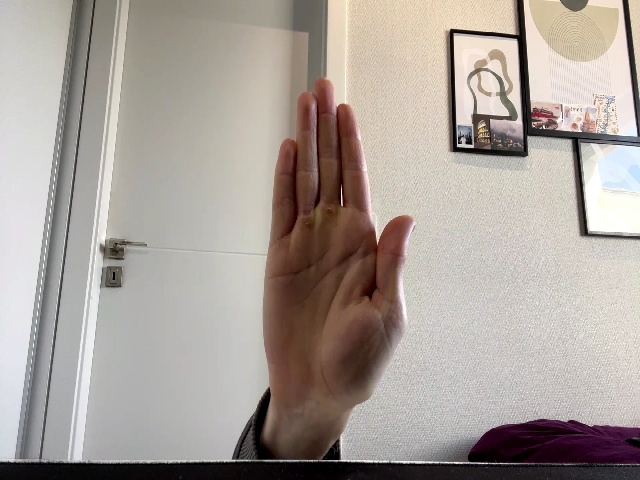B: (263, 78, 415, 411)
